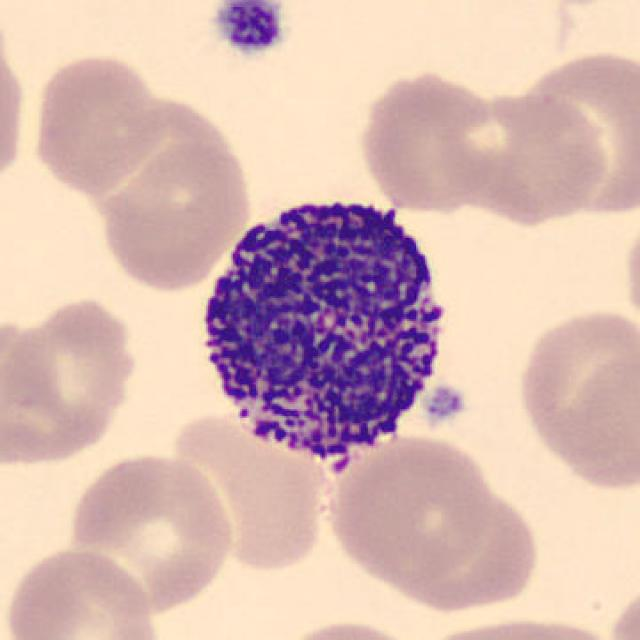Basophil: (180, 176, 474, 488)
Platelets: (208, 0, 290, 60), (421, 382, 471, 427)
RBC: (164, 402, 336, 575), (66, 448, 238, 617), (322, 428, 496, 589), (94, 130, 256, 294), (0, 291, 144, 469), (512, 300, 638, 493), (441, 84, 611, 226), (509, 45, 640, 223), (380, 476, 544, 617), (354, 67, 503, 213), (25, 48, 169, 198), (0, 543, 164, 640), (561, 352, 640, 506), (409, 612, 620, 640), (0, 18, 32, 196), (270, 613, 432, 640), (620, 206, 640, 342), (602, 573, 640, 640)
